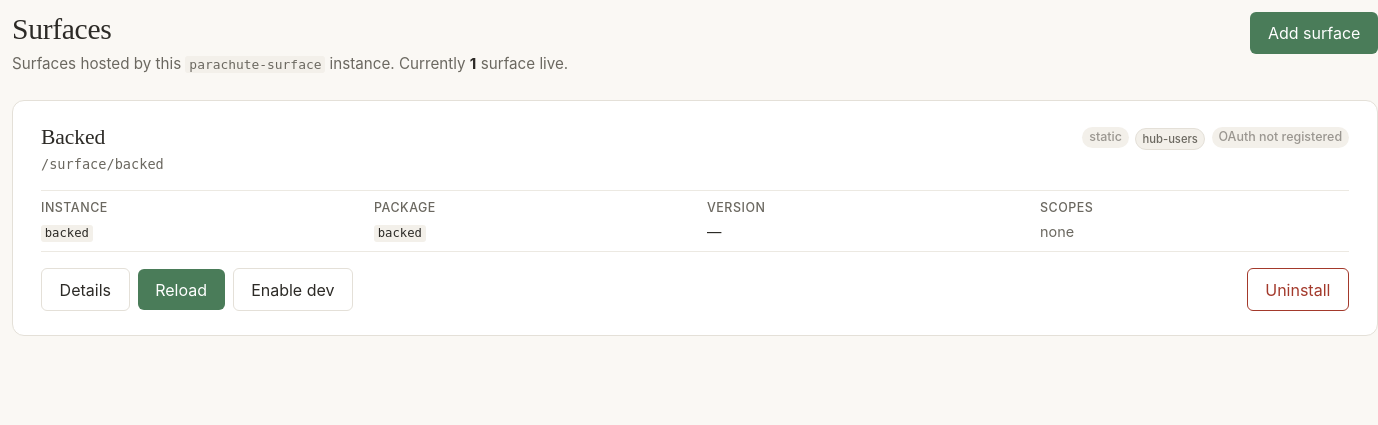
it: Modules › DCR orphan case (hub can't delete clients) is surfaced, not swallowed
This screenshot has width=1378, height=425.
Click the button "Uninstall": (1298, 290) x1=1247 y1=268 x2=1349 y2=312
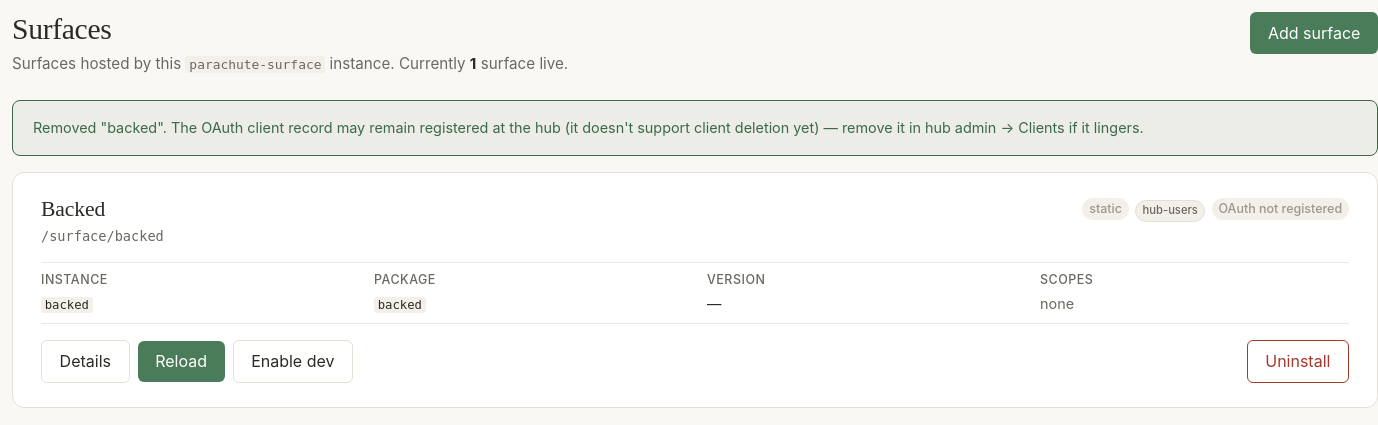
Expected: the text "OAuth client record may remain registered" is shown, x1=33 y1=119 x2=1144 y2=136
